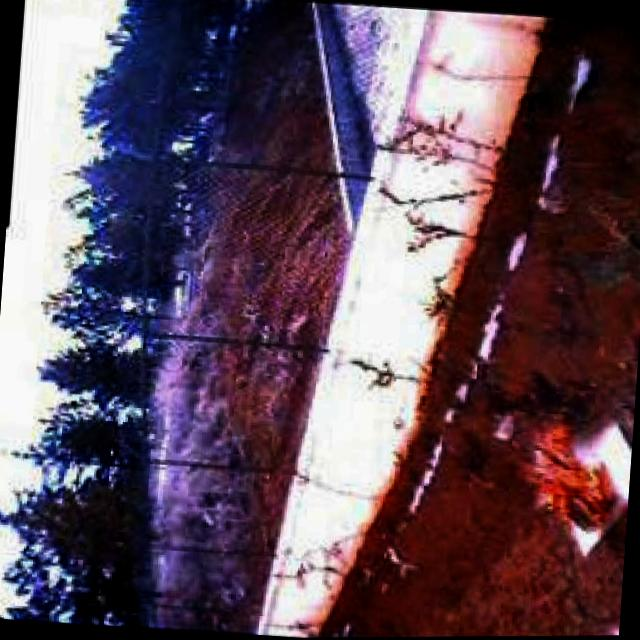Fire: (514, 412, 624, 539)
